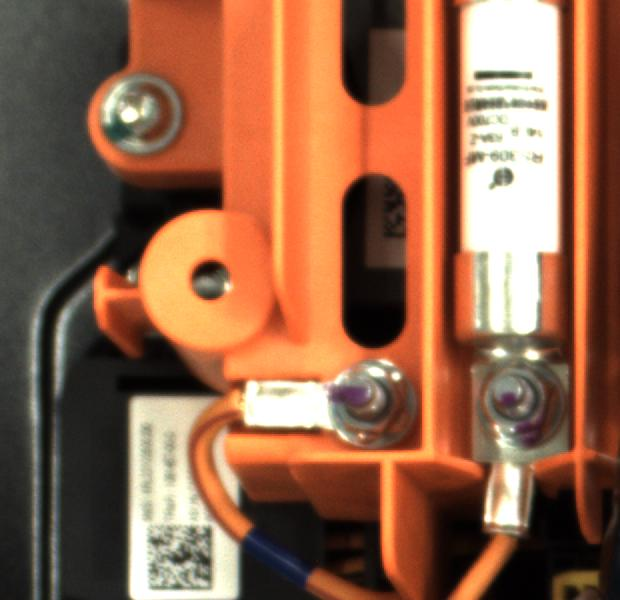screw_m: (89, 67, 188, 163)
screw_s: (476, 358, 579, 449), (318, 362, 414, 452)
